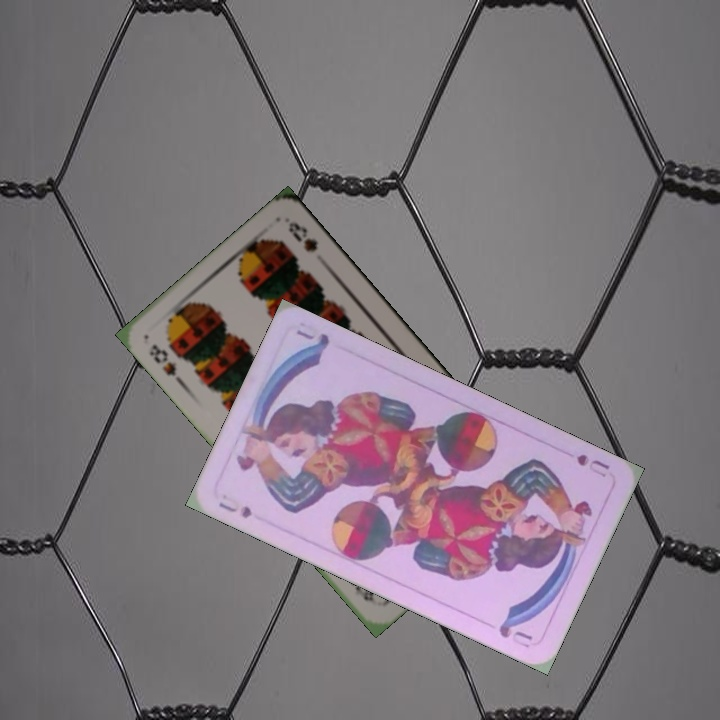S8: (144, 340, 187, 388)
SU: (572, 449, 612, 480), (214, 498, 255, 521)
